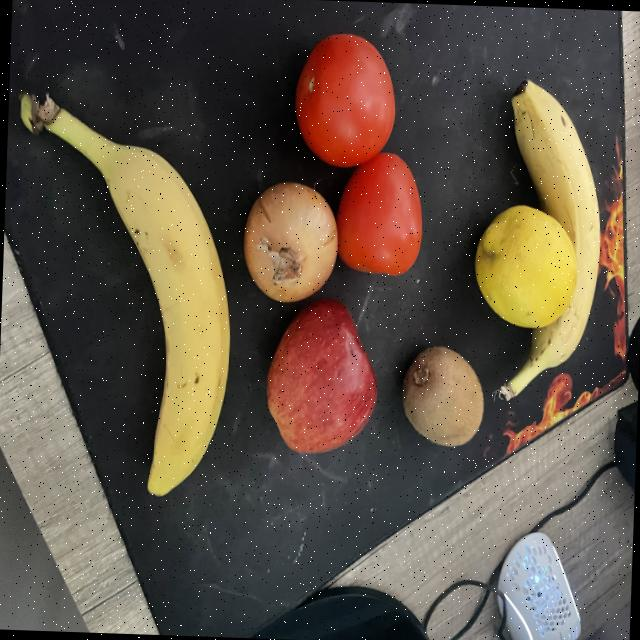apple: (265, 298, 375, 453)
banana: (18, 93, 229, 495), (499, 80, 599, 395)
kiwi: (401, 346, 482, 446)
lemon: (473, 205, 576, 328)
tomato: (294, 34, 394, 166), (335, 152, 421, 274)
